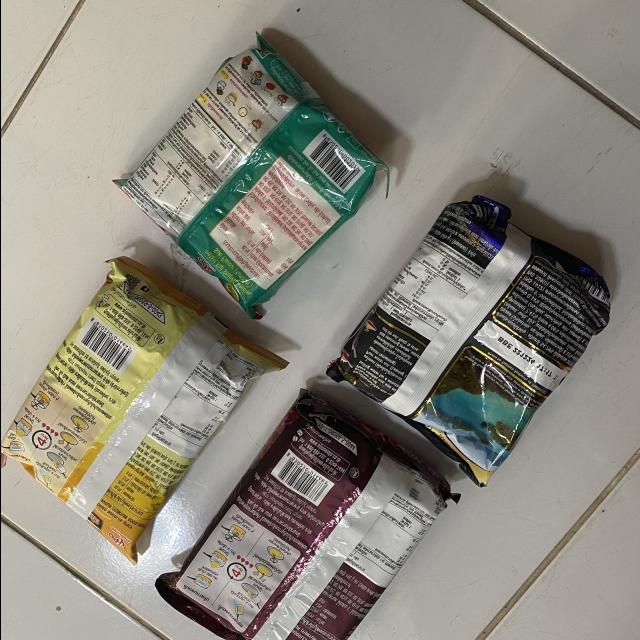plastik: (0, 256, 286, 564), (325, 196, 608, 487), (114, 34, 387, 319), (155, 389, 457, 640)
